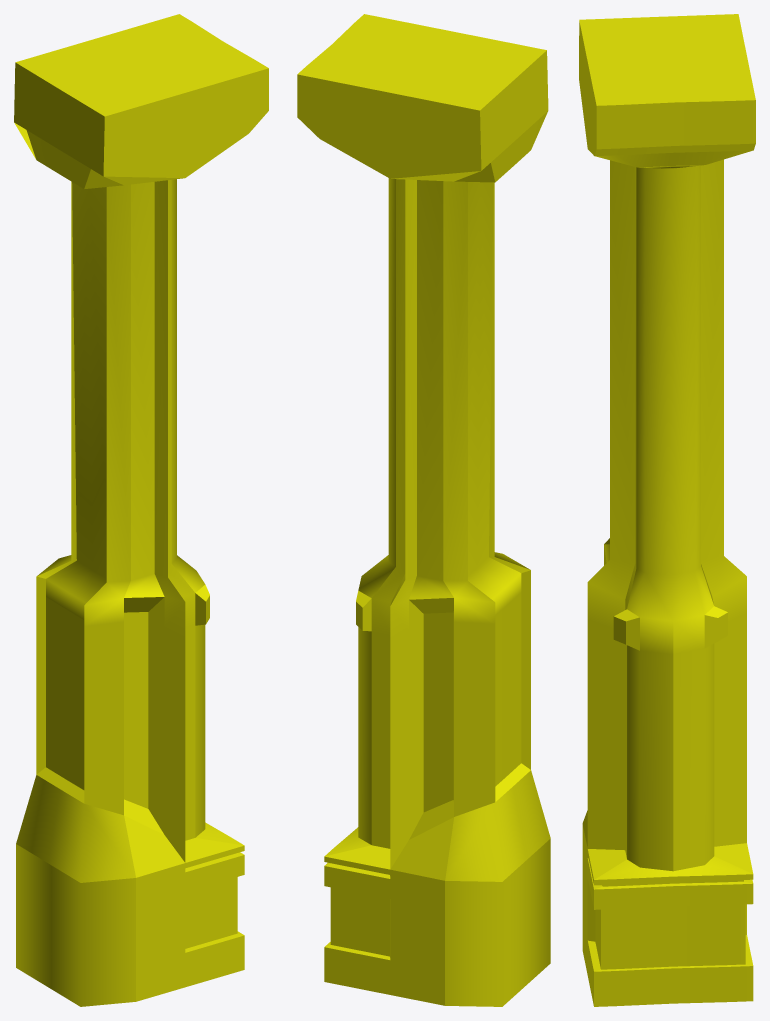
The model's file is Mdl_Vagon_pilar2.fbx.
3 views of the same model, side by side, from view 1: azimuth 30°, elevation 25°; view 2: azimuth 150°, elevation 25°; view 3: azimuth 270°, elevation 25° (orthographic). The views are drawn at different scales.
Parts seen in each view (by area): view 1: Mdl_Vagon_pilar2; view 2: Mdl_Vagon_pilar2; view 3: Mdl_Vagon_pilar2.
Part boxes in pixels (x1=…): Mdl_Vagon_pilar2: x1=14, y1=14, x2=268, y2=1006; Mdl_Vagon_pilar2: x1=297, y1=14, x2=550, y2=1006; Mdl_Vagon_pilar2: x1=579, y1=14, x2=755, y2=1006.
Size of the model in its own units: 1.89 by 8.29 by 1.45.
